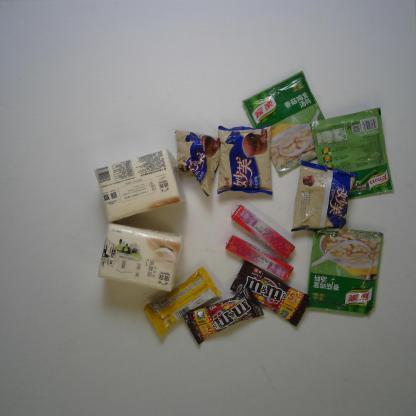Candy: (232, 205, 301, 261), (224, 229, 294, 281)
Chocolate: (141, 265, 224, 339), (227, 260, 313, 326), (183, 285, 265, 345)
Dessert: (289, 159, 357, 233), (214, 125, 275, 199), (169, 125, 225, 193)
Seasoner: (242, 71, 342, 175), (298, 221, 388, 321), (310, 100, 395, 204)
Tissue: (93, 148, 188, 224), (96, 221, 185, 292)
